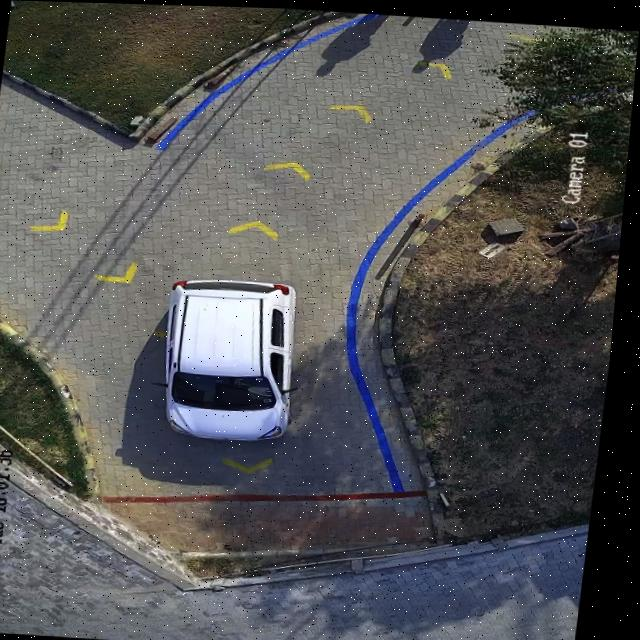car: (169, 276, 304, 438)
